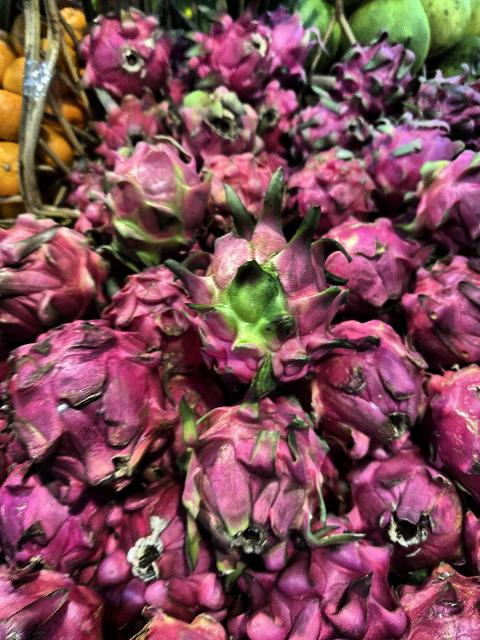buah-naga-belum-matang: (161, 172, 343, 378), (162, 362, 336, 564), (95, 140, 214, 268)
buah-naga-matang: (9, 315, 172, 489), (234, 520, 398, 640), (96, 486, 232, 614), (343, 445, 467, 567), (0, 208, 118, 328), (312, 326, 421, 444), (4, 464, 106, 572), (396, 240, 478, 362), (323, 211, 423, 311), (92, 268, 196, 358), (78, 9, 174, 93), (178, 22, 276, 100), (360, 118, 460, 194), (408, 148, 480, 248), (294, 146, 374, 232), (335, 30, 415, 108)
